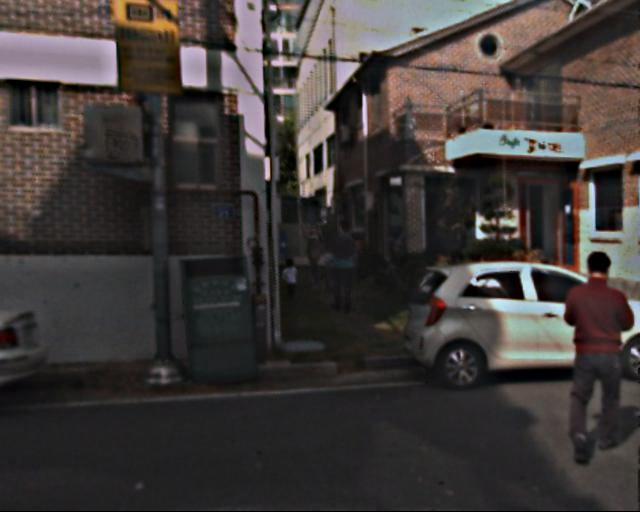person: (544, 252, 639, 459), (325, 219, 365, 315), (301, 223, 330, 291), (281, 257, 301, 303)
